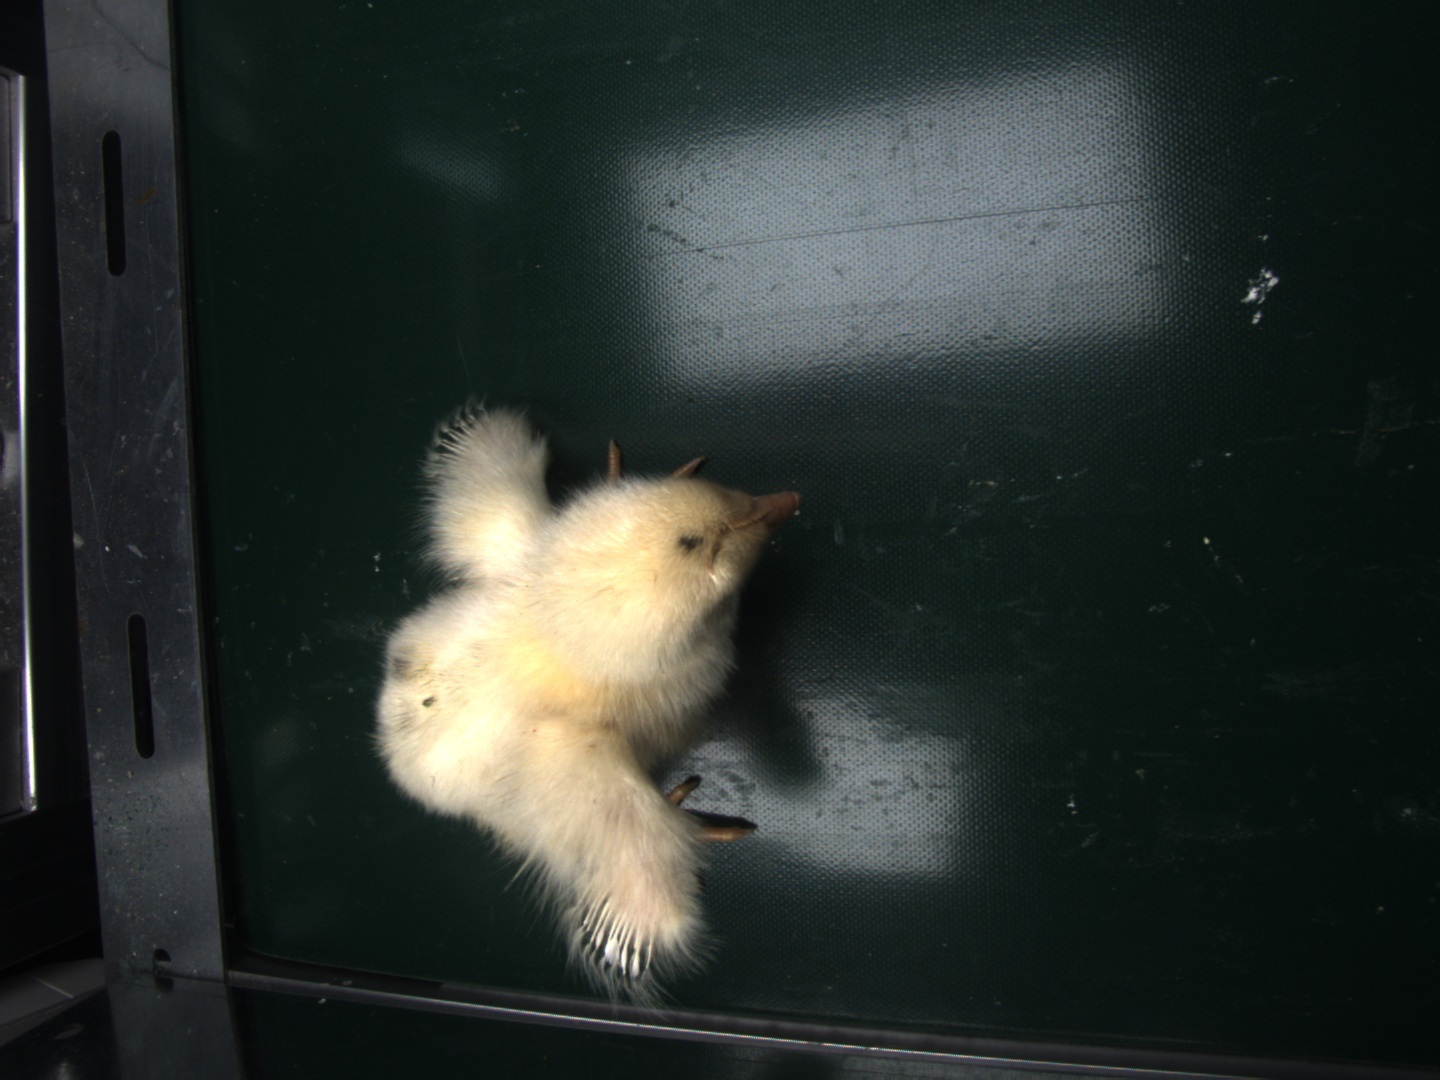male: (577, 892, 657, 967), (437, 408, 491, 462)
